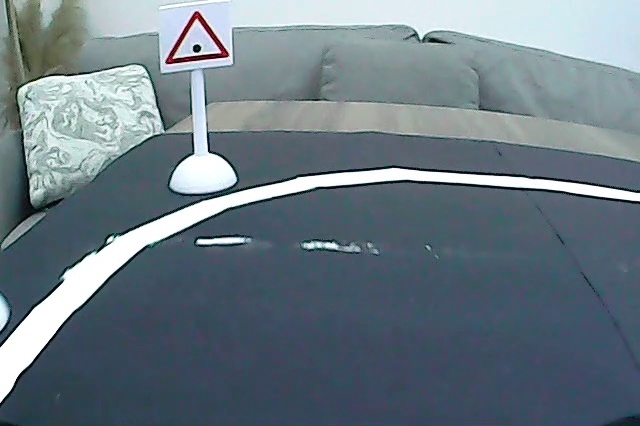green light: (160, 7, 232, 65)
